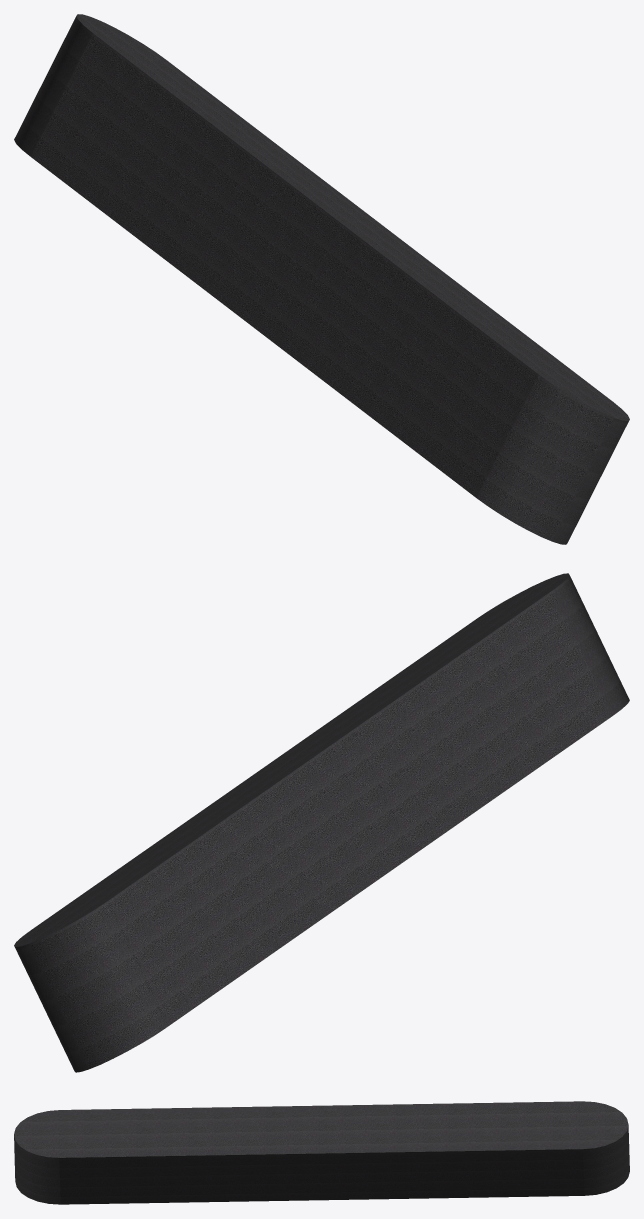
File: original-255.obj
3 renders of one model, top to bottom at view 1: azimuth 30°, elevation 25°; view 2: azimuth 150°, elevation 25°; view 3: azimuth 270°, elevation 25°, orthographic. The views are drawn at different scales.
Visible parts, largest first — view 1: mesh116/mesh116-geometry/material_1/component_0#mesh116-geometry; view 2: mesh116/mesh116-geometry/material_1/component_0#mesh116-geometry; view 3: mesh116/mesh116-geometry/material_1/component_0#mesh116-geometry.
Part boxes in pixels (bbox=[...]): mesh116/mesh116-geometry/material_1/component_0#mesh116-geometry: bbox=[14, 14, 629, 544]; mesh116/mesh116-geometry/material_1/component_0#mesh116-geometry: bbox=[14, 573, 629, 1072]; mesh116/mesh116-geometry/material_1/component_0#mesh116-geometry: bbox=[14, 1101, 629, 1204].
Bounding box in the file's own units: 0.0341 × 0.0409 × 0.2291.
2 materials, 2 textured.
